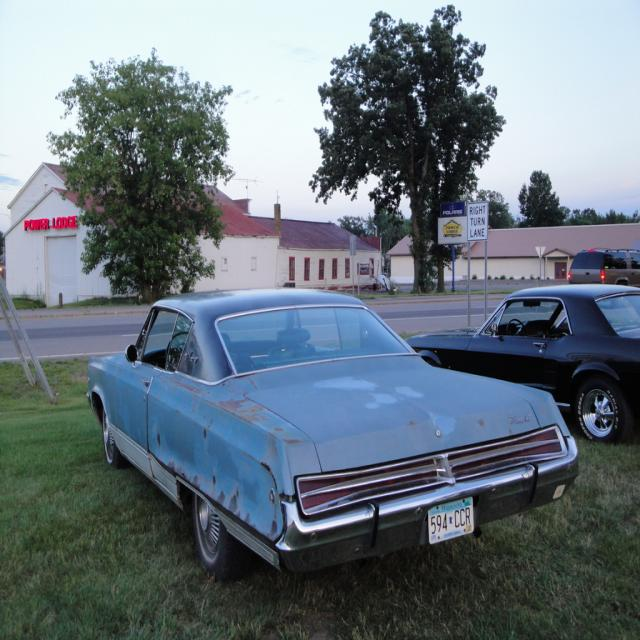car: (83, 287, 578, 579)
